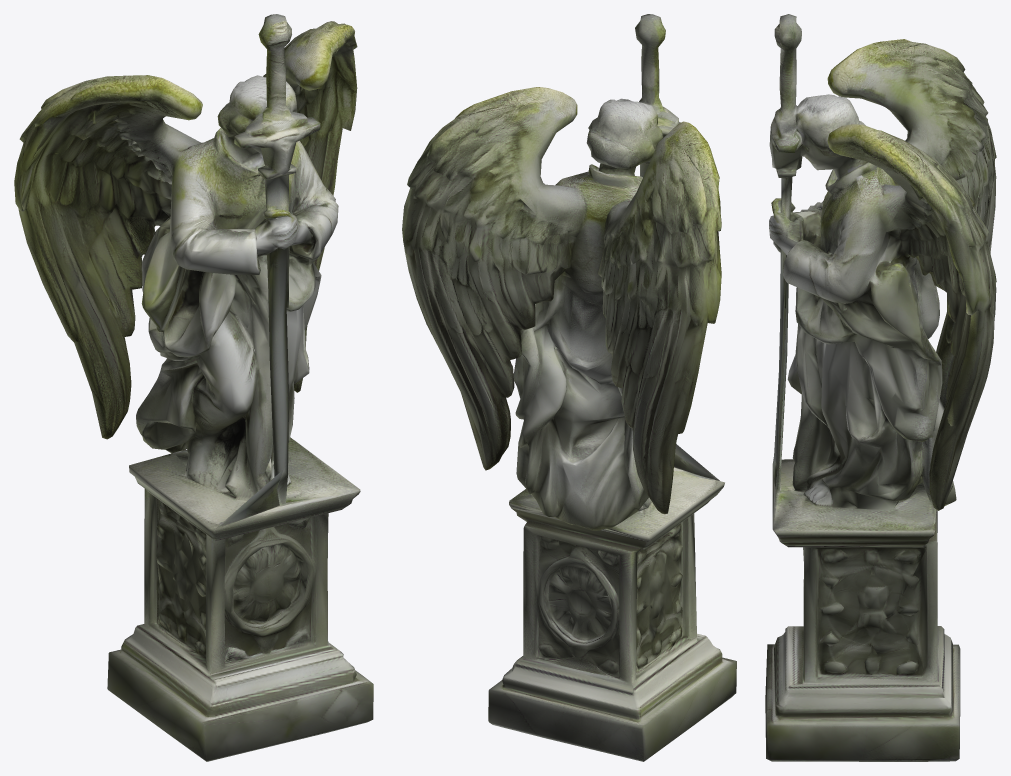
File: prop-statue.glb
3 renders of one model, left to right at view 1: azimuth 30°, elevation 25°; view 2: azimuth 150°, elevation 25°; view 3: azimuth 270°, elevation 25°, orthographic. The views are drawn at different scales.
Size of the model in its own units: 0.9374 by 1.91 by 0.5673.
1 material, 1 textured.
